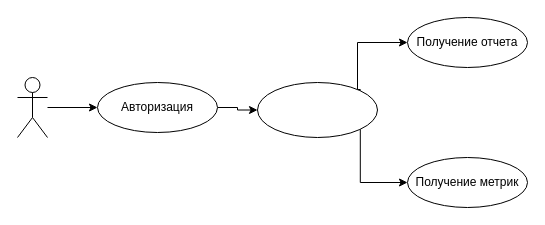
This 545x225 diagram has some shape labels left out. The shapes that lost their labels are listed below. From the top down, each one's box as (x1, y1, x2, y2) in pixels, then its label:
(16, 76, 48, 138): User
(256, 82, 378, 138): Поиск самолета по ID
